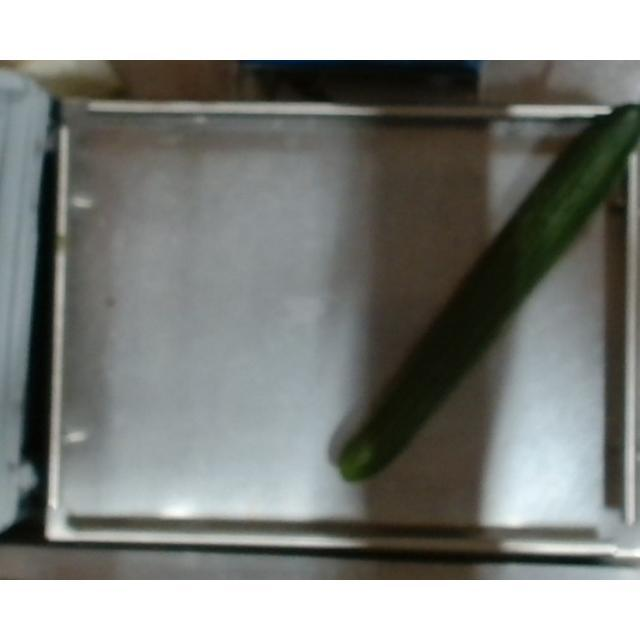cucumber: (336, 104, 640, 484)
